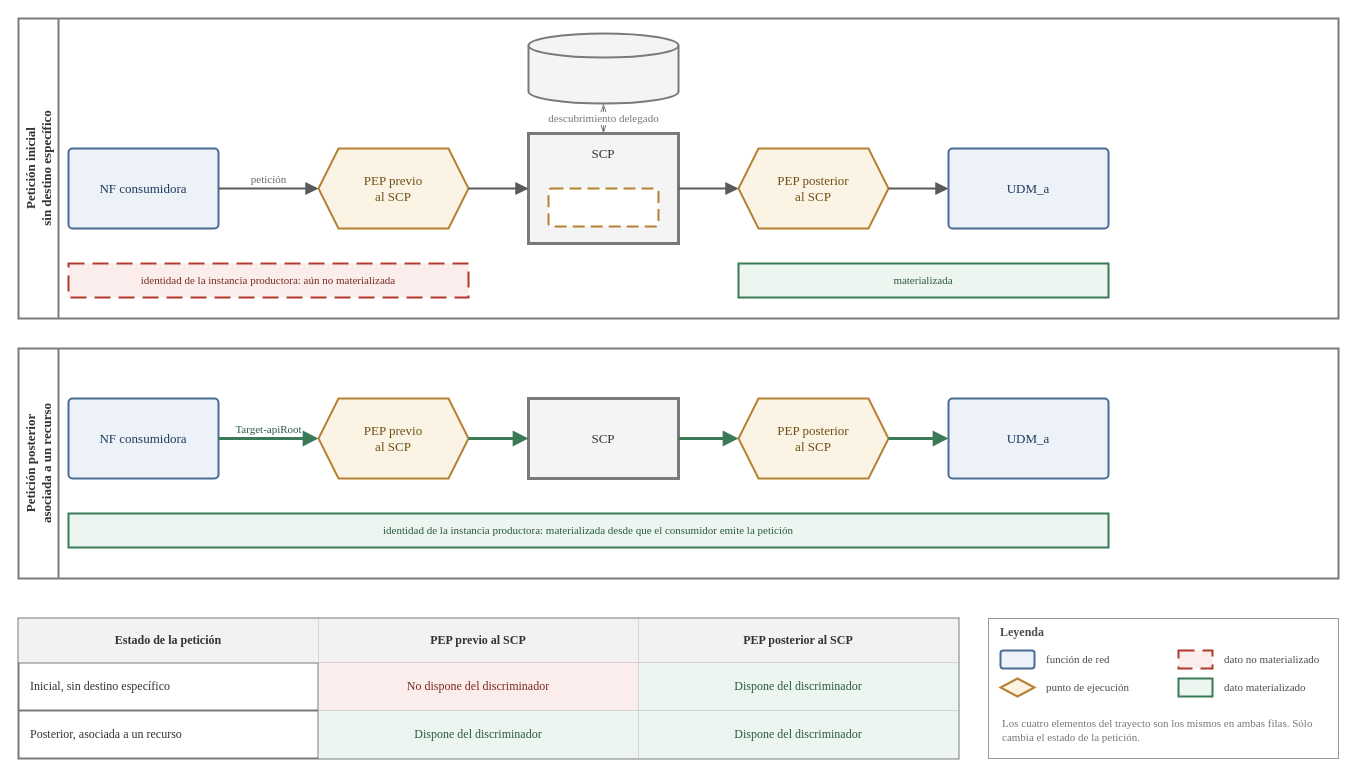
This 1356x776 diagram has some shape labels left out. The centre of each missing label's shape, as x and y in pixels:
"NRF" goes at point (603, 68).
"selección" goes at point (603, 207).
